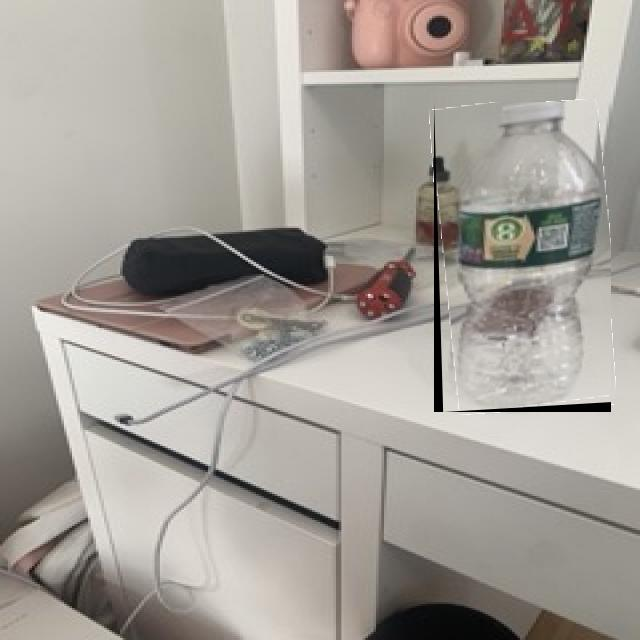water_bottle: (434, 102, 611, 412)
